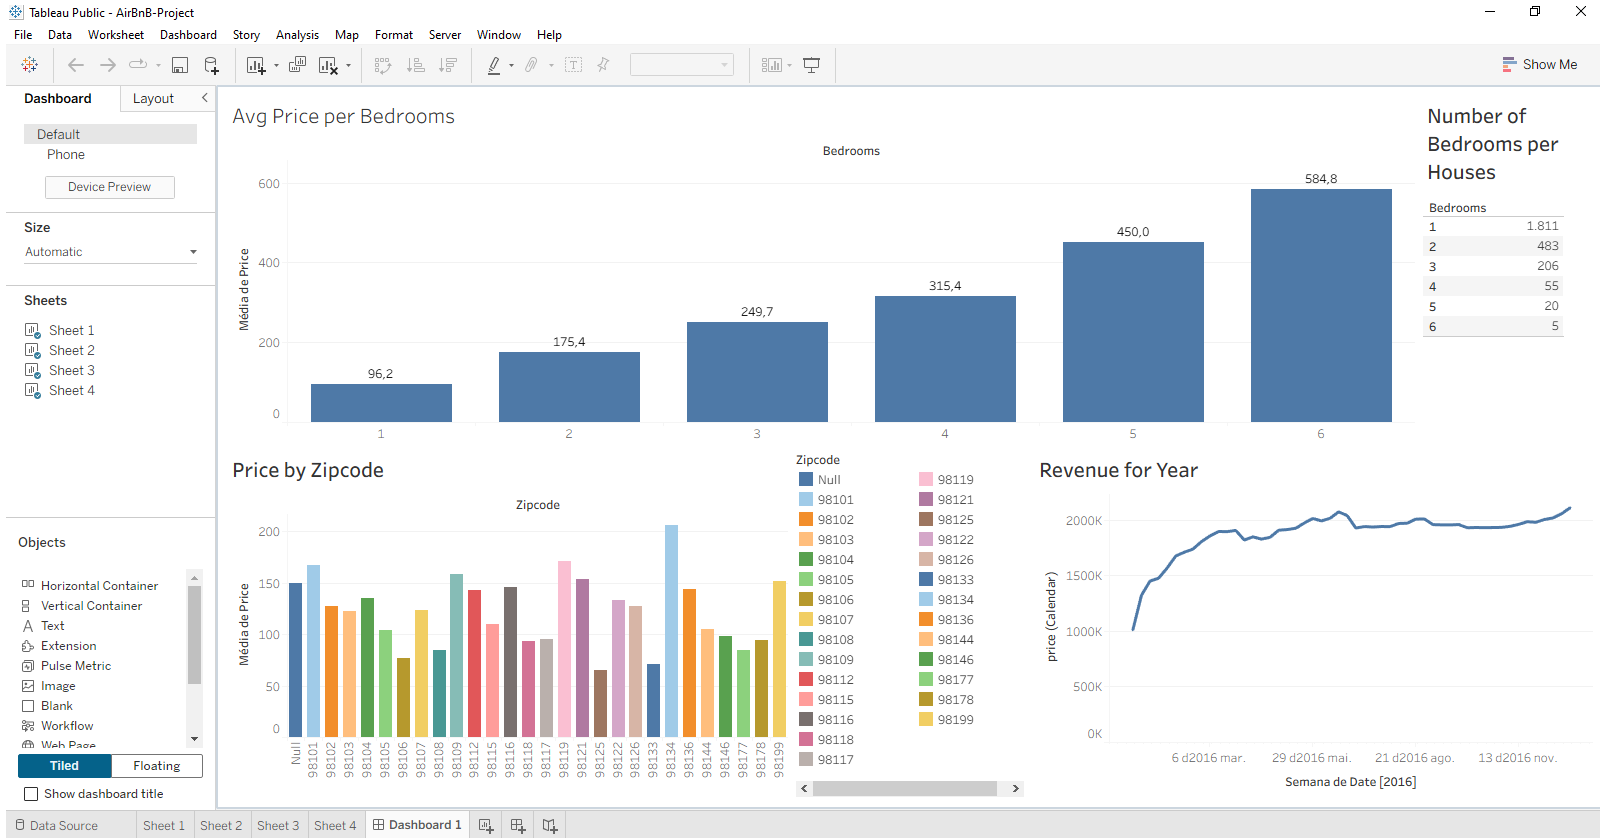

What the dashboard file says about the page in this screenshot:
{"tool":"tableau","page":{"name":"Dashboard 1","canvas":[1000,1000],"units":"permille","ordinal":0},"visuals":[{"type":"worksheet","title":"Sheet 3","mark":"Automatic","rows":["price"],"cols":["bedrooms"],"box":[5.8,11.1,860.2,488.9]},{"type":"worksheet","title":"Sheet 4","mark":"Automatic","rows":["bedrooms"],"box":[866,11.1,128.2,488.9]},{"type":"worksheet","title":"Sheet 1","mark":"Automatic","rows":["price"],"cols":["zipcode"],"box":[5.8,500,409.2,488.9]},{"type":"legend","title":"Sheet 1","param":"[federated.1sm6txw06urime10adhdf0395dsu].[none:zipcode:ok]","box":[415,500,171.5,488.9]},{"type":"worksheet","title":"Sheet 2","mark":"Automatic","rows":["price (Calendar)"],"cols":["date"],"box":[586.5,500,407.8,488.9]}]}

Visuals, with their boxes on the dashboard's canvas, which has no fixed pixel size, in thousandths of its width and height (x1, y1, x2, y2). These are canvas units, not pixel positions in the 1600x838 screenshot, which may show the page scaled, cropped or inside an application window:
"Sheet 3" worksheet: 6:11:866:500
"Sheet 4" worksheet: 866:11:994:500
"Sheet 1" worksheet: 6:500:415:989
"Sheet 1" legend: 415:500:586:989
"Sheet 2" worksheet: 586:500:994:989
